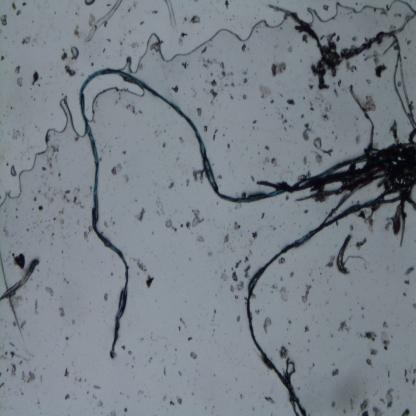Air bubble: (126, 8, 286, 72), (0, 96, 83, 212), (84, 69, 142, 123), (307, 0, 410, 28), (70, 45, 80, 61), (9, 164, 19, 177)
Background material: (0, 260, 30, 340), (36, 184, 82, 212), (307, 60, 337, 93), (204, 59, 228, 100), (334, 233, 356, 276), (388, 202, 408, 244), (230, 256, 252, 289), (0, 343, 20, 376), (312, 136, 334, 163), (42, 142, 61, 173), (358, 398, 387, 416), (358, 209, 377, 230), (184, 208, 203, 229), (380, 320, 392, 352), (370, 54, 388, 75), (257, 80, 272, 101), (276, 282, 290, 303), (270, 60, 288, 76), (384, 388, 395, 411), (337, 318, 351, 336), (300, 285, 312, 306), (321, 100, 332, 122), (20, 370, 35, 386), (303, 121, 314, 142), (278, 112, 289, 132), (133, 207, 147, 222), (191, 167, 205, 182), (12, 253, 27, 267), (164, 219, 178, 234), (134, 259, 149, 273), (82, 223, 93, 242), (110, 161, 123, 177), (262, 317, 274, 334), (361, 329, 378, 341), (355, 236, 367, 252), (144, 273, 156, 289), (30, 69, 40, 88), (64, 64, 77, 78), (262, 156, 277, 168), (325, 253, 335, 271), (367, 345, 380, 358), (278, 346, 290, 360), (264, 392, 276, 406), (176, 32, 189, 44), (169, 394, 182, 406), (18, 34, 32, 45), (345, 60, 356, 74), (222, 228, 230, 247), (188, 350, 200, 362), (211, 126, 221, 140), (232, 218, 242, 232), (189, 15, 201, 26), (248, 228, 259, 240), (58, 307, 69, 318), (0, 13, 8, 28), (16, 74, 24, 88), (330, 366, 340, 377), (165, 179, 176, 189), (239, 42, 248, 54), (405, 266, 415, 276), (402, 406, 412, 416), (411, 367, 416, 387), (171, 83, 180, 94), (60, 50, 69, 61), (63, 368, 72, 379), (403, 368, 409, 384), (223, 0, 231, 12), (181, 60, 189, 72), (73, 23, 80, 36), (286, 97, 296, 106), (84, 0, 95, 8), (162, 363, 168, 377), (196, 106, 202, 119), (14, 64, 21, 75), (46, 286, 54, 294), (11, 0, 17, 10), (64, 394, 71, 402), (403, 278, 410, 286), (366, 357, 372, 366), (203, 124, 209, 132), (304, 324, 310, 332), (277, 257, 285, 263), (242, 93, 247, 101)
Cellulose filter fibre: (269, 4, 416, 131), (298, 138, 416, 215), (86, 1, 178, 43), (0, 258, 41, 300), (349, 85, 374, 152)
Cotton: (79, 67, 408, 416)
